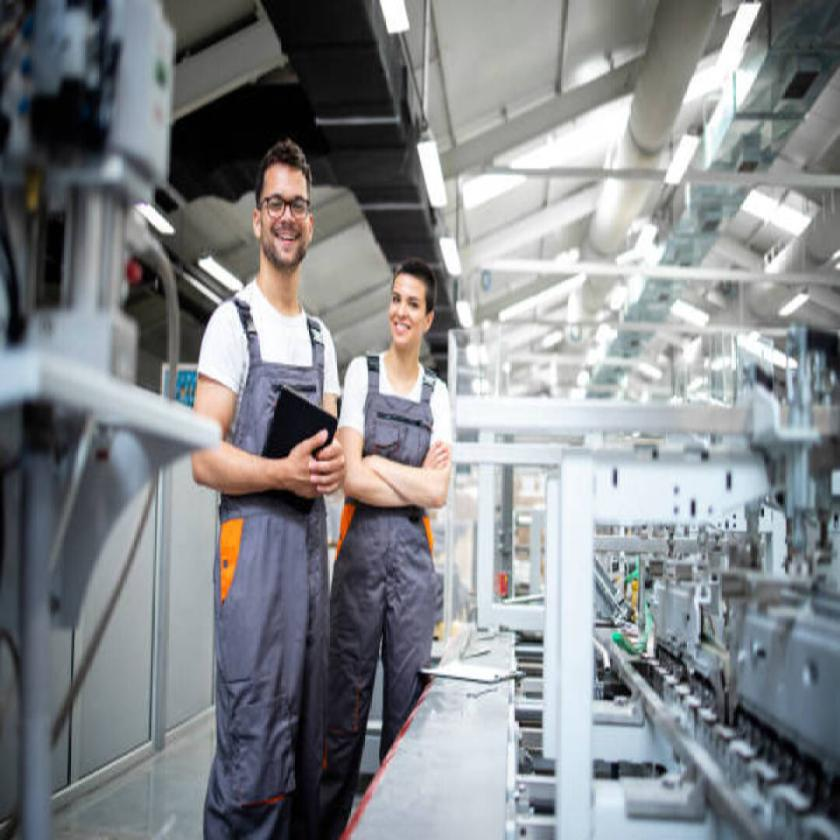Sin_casco: (253, 140, 316, 295), (386, 260, 439, 372)
